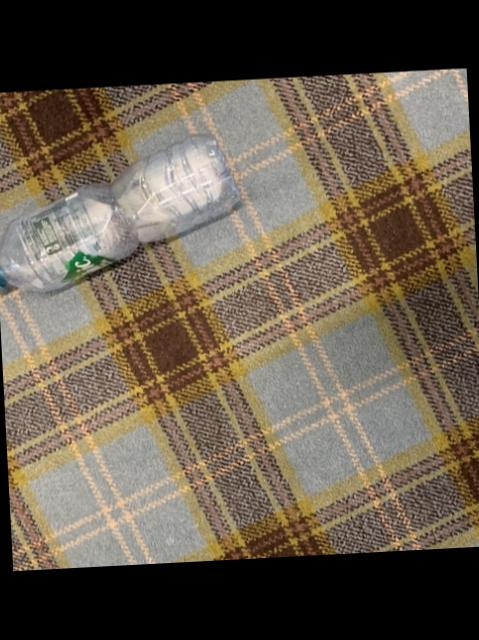plastic: (0, 136, 237, 293)
